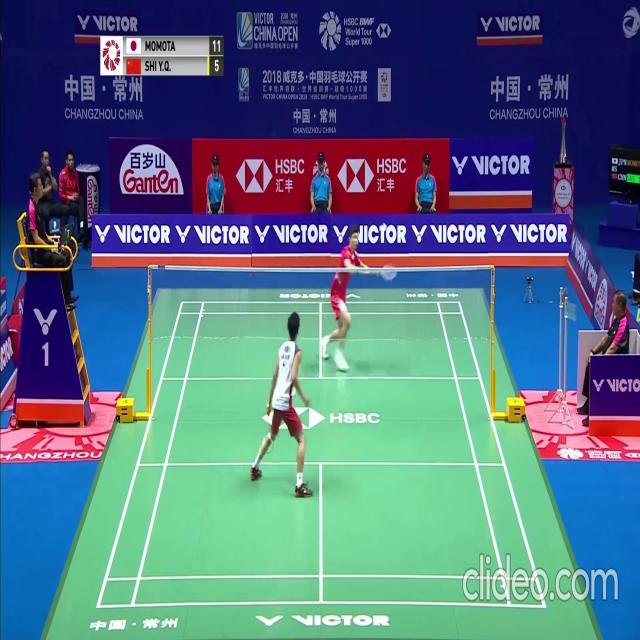Shuttlecock: (383, 224, 387, 231)
